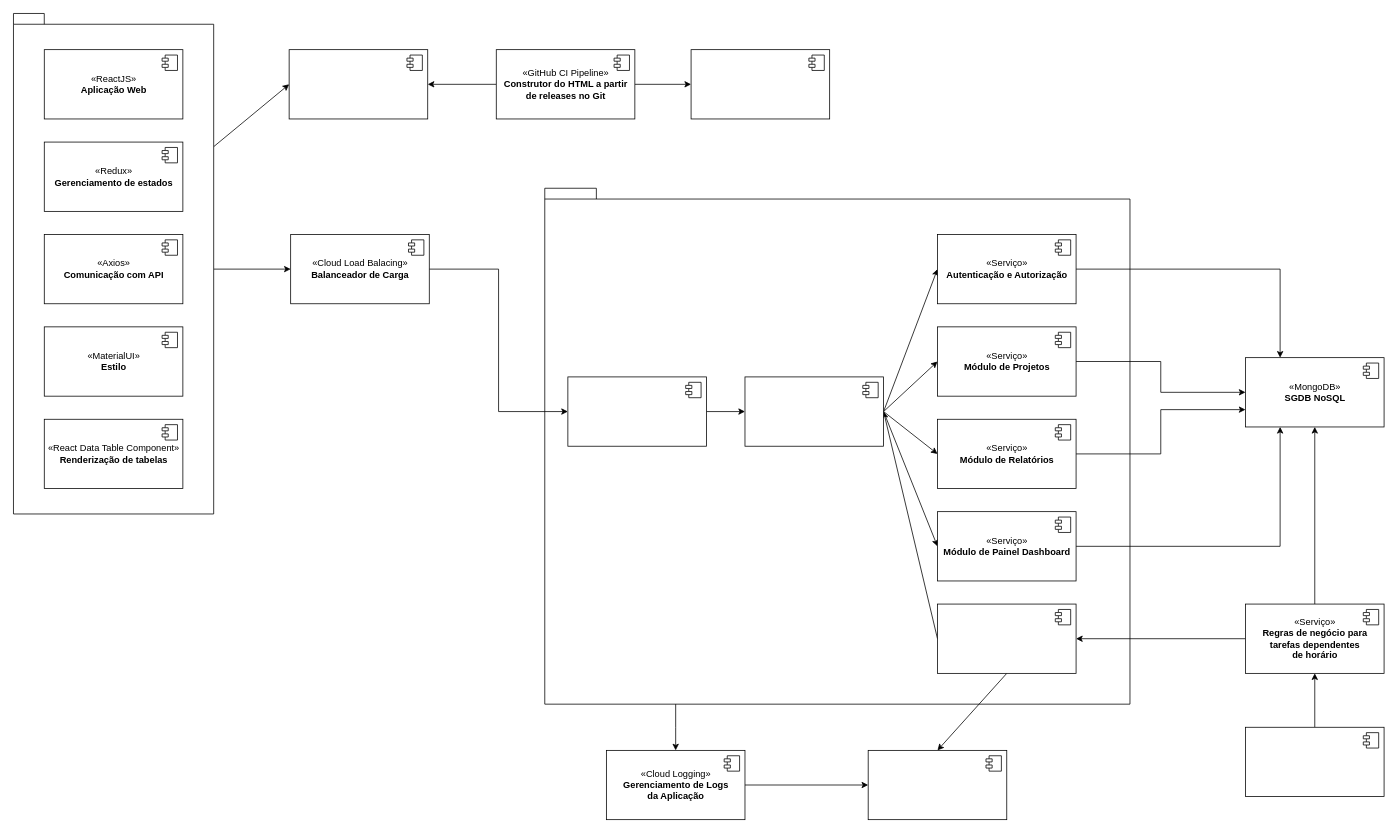
Image size: 1398x833. Some labels were removed from this diagram. The shapes that lost their labels are listed below. From the top down, each one's centre as x and y in pixels, then its label:
the point at 358,84: «Google Cloud Storage» Servidor de arquivos estáticos
the point at 760,84: «Git» Gerenciador de repositório
the point at 636,411: «Docker & Docker Compose» Gestão de Containers
the point at 814,411: «NGINX» API Gateway
the point at 1006,638: «Serviço» Módulo de Notificações
the point at 1314,761: «Cron» Disparador de eventos
the point at 937,785: «Sendgrid» Servidor SMTP
